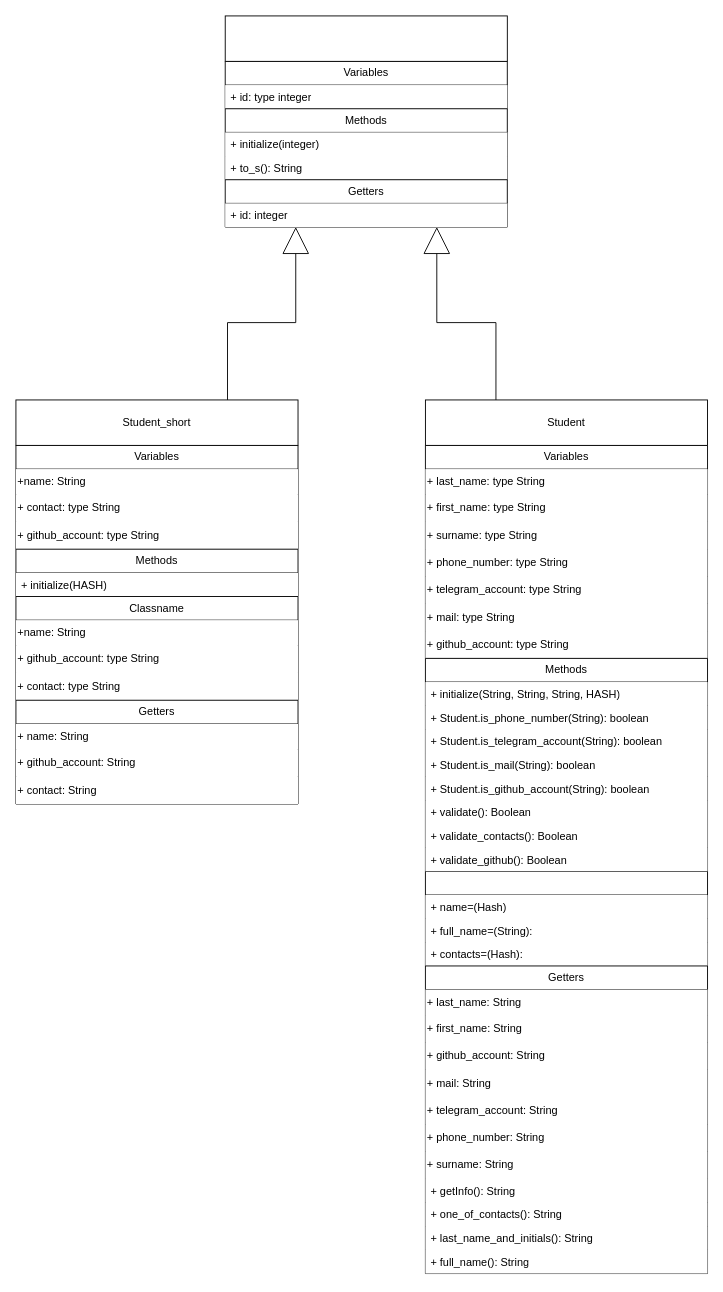
This 723x1292 diagram has some shape labels left out. The shapes that lost their labels are listed below. From the top down, each one's box as (x1, y1, x2, y2) in pixels, then its label:
(224, 15, 507, 61): People
(425, 870, 708, 966): Setters
